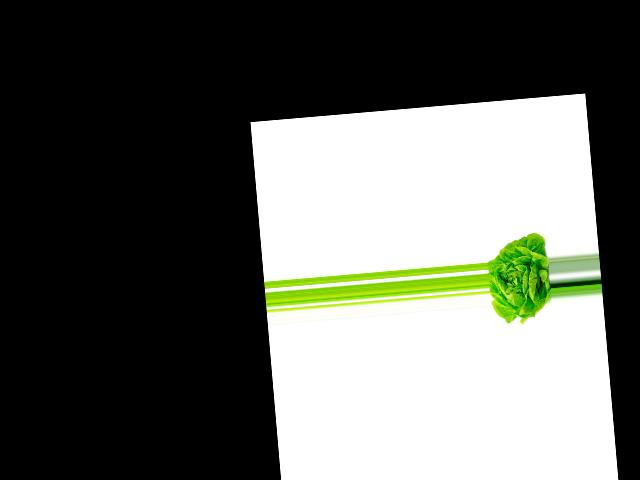lettuce: (485, 230, 553, 322)
